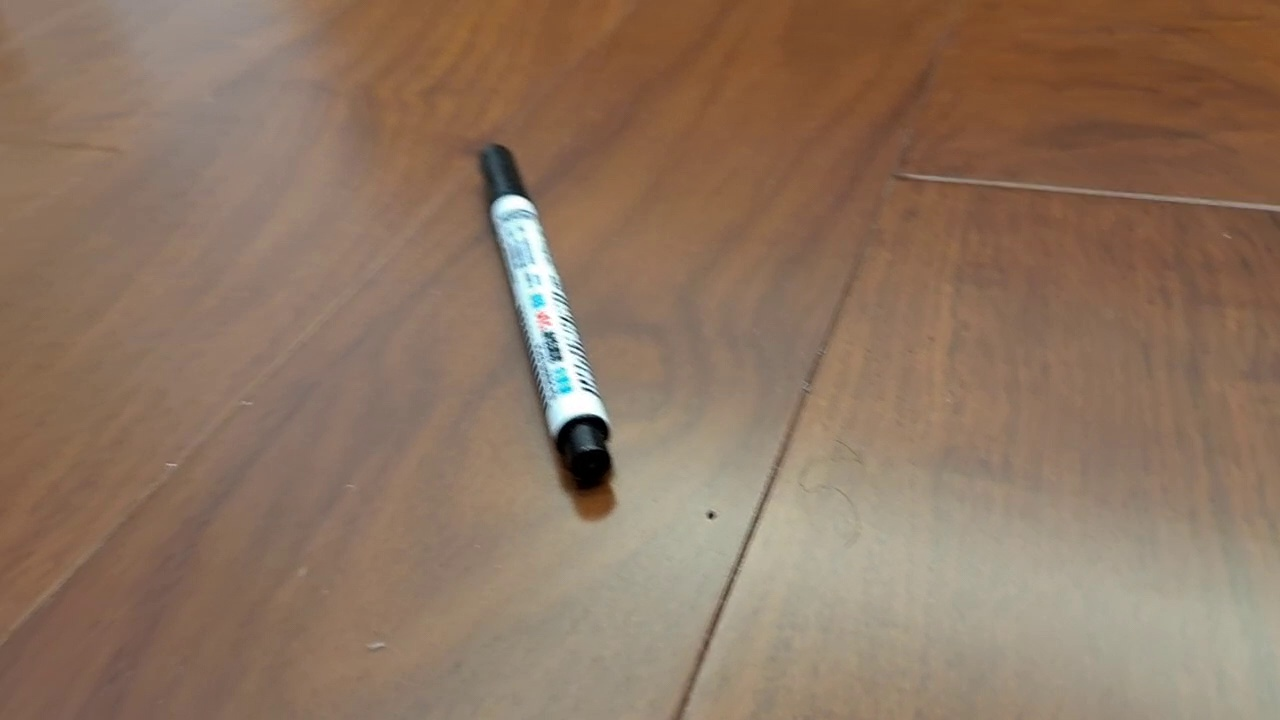pen: (477, 142, 615, 490)
